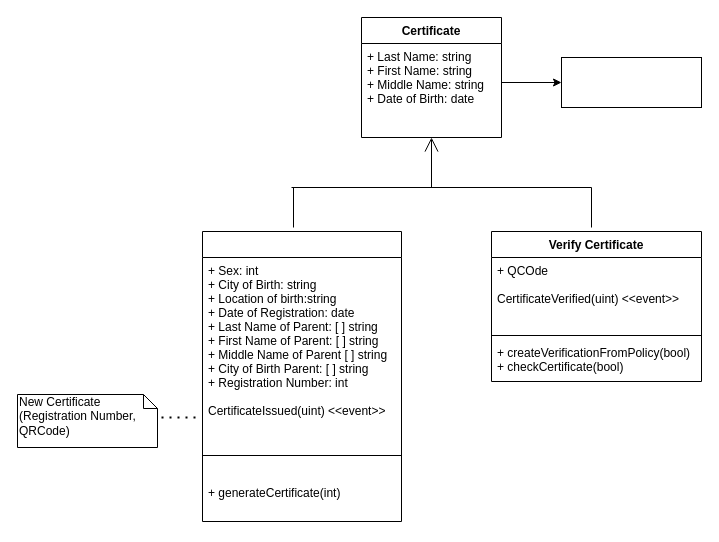
The diagram is 719 pixels wide and 542 high, and some of its shapes have lost their labels. The box of each missing label's shape, as (x1, y1, x2, y2) in pixels:
<< Library QR Code >>: (560, 56, 702, 108)
Issue Certificate: (202, 230, 402, 522)
